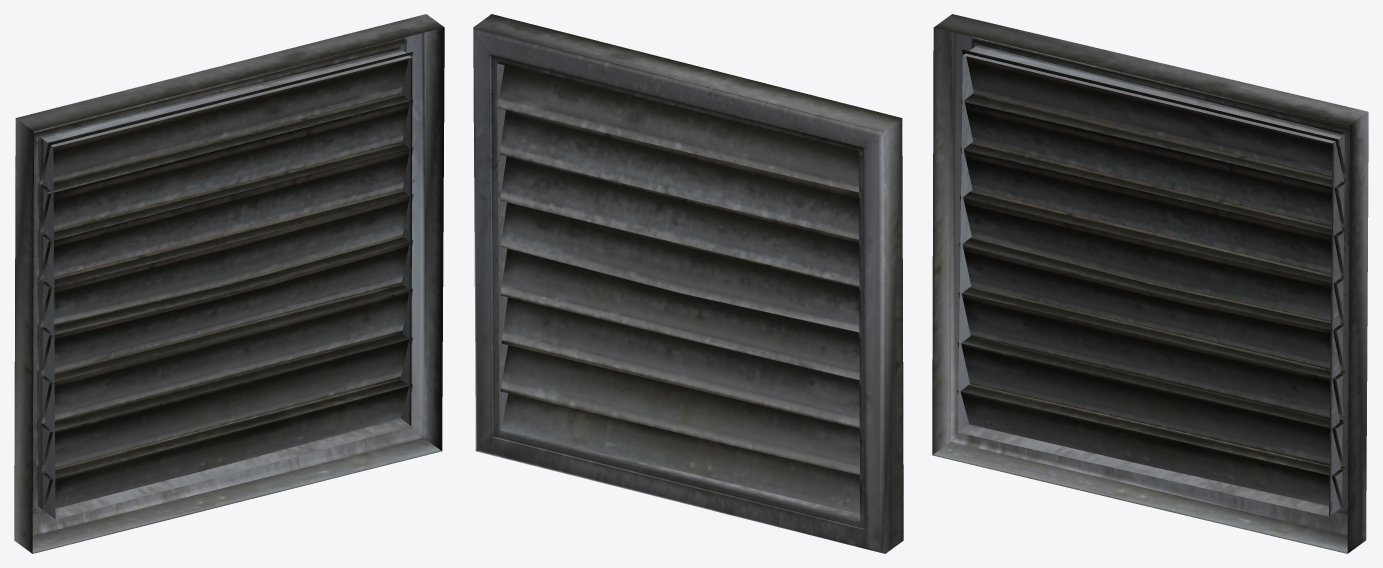
File: sm_VentilationShaft_01_03.fbx
3 views of the same model, side by side, from view 1: azimuth 30°, elevation 25°; view 2: azimuth 150°, elevation 25°; view 3: azimuth 330°, elevation 25° (orthographic).
Visible parts, largest first — view 1: sm_VentilationShaft_01_03_LOD0; view 2: sm_VentilationShaft_01_03_LOD0; view 3: sm_VentilationShaft_01_03_LOD0.
Boxes of the visible parts, x1,y1,x2,y2 form: sm_VentilationShaft_01_03_LOD0: [14, 14, 444, 553]; sm_VentilationShaft_01_03_LOD0: [473, 14, 903, 553]; sm_VentilationShaft_01_03_LOD0: [932, 14, 1368, 553].
Size of the model in its own units: 4.99 by 58.1 by 57.39.
